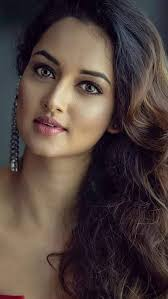indian_female: (1, 6, 123, 172)
